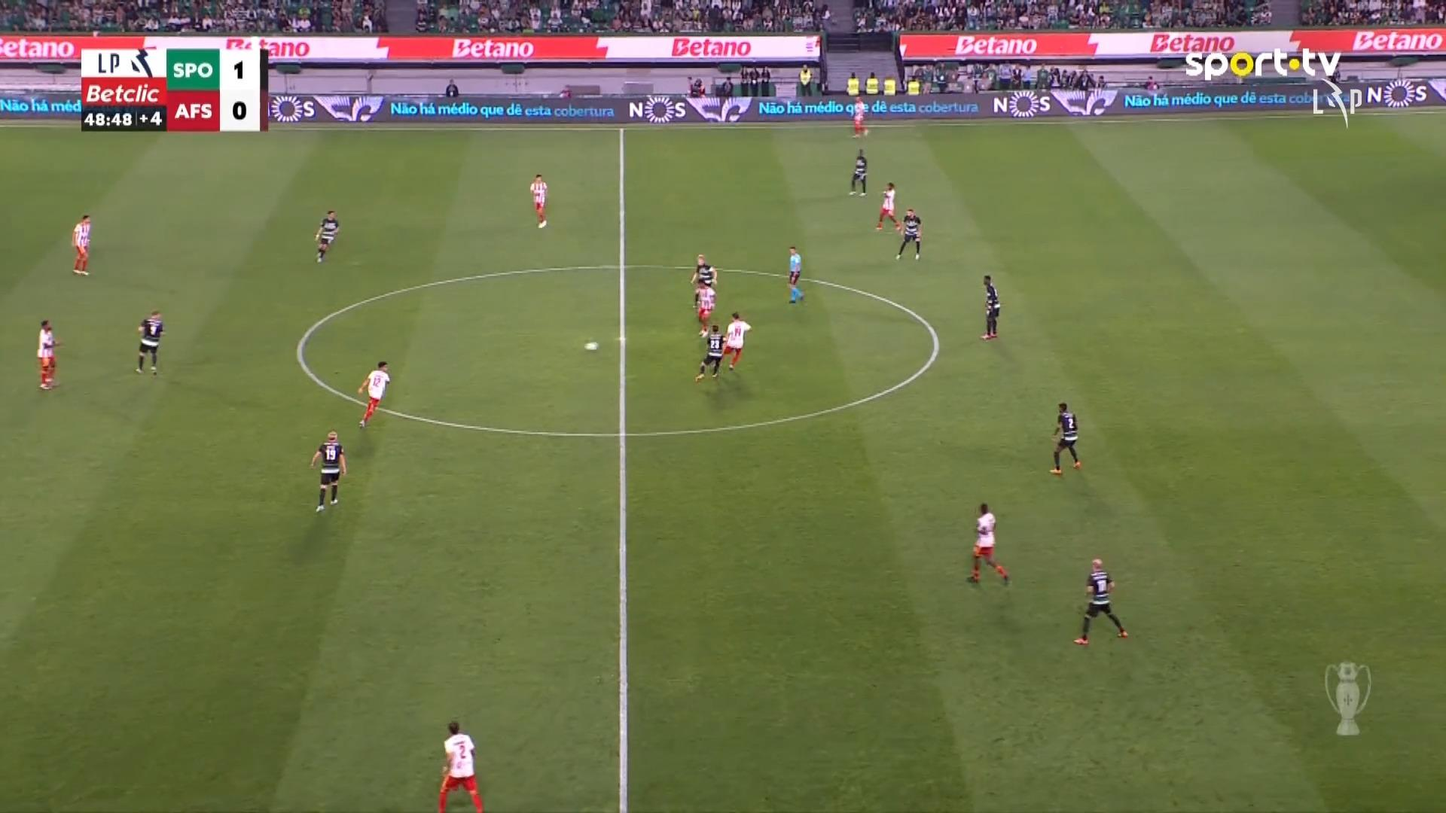ball: (584, 341, 597, 351)
player: (1073, 557, 1128, 644), (437, 720, 484, 811), (966, 502, 1010, 586), (309, 430, 346, 512), (1048, 401, 1081, 474), (356, 360, 390, 428), (36, 318, 63, 389), (135, 309, 164, 375), (694, 324, 726, 382), (724, 311, 751, 370), (895, 207, 922, 260), (692, 278, 716, 337), (313, 209, 339, 263), (71, 214, 92, 276), (981, 274, 1000, 340), (875, 181, 900, 231), (529, 173, 548, 228), (690, 254, 718, 290), (848, 148, 868, 196), (850, 95, 869, 138)
referee: (786, 245, 804, 303)
